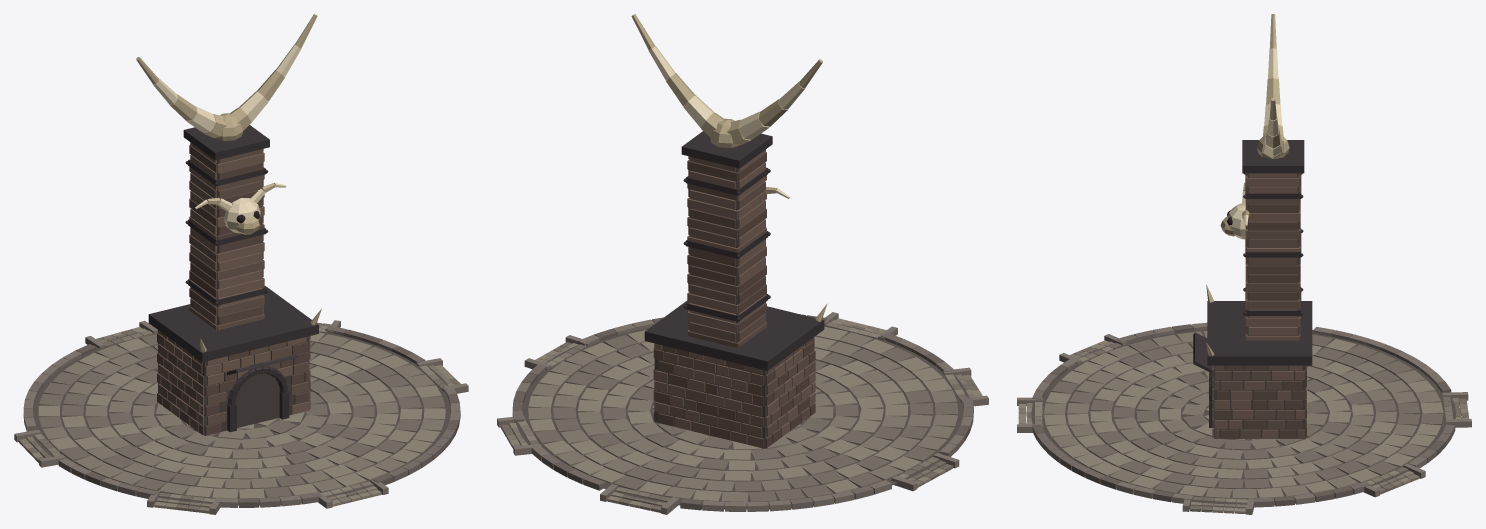
Rendered from forge.glb.
3 views of the same model, side by side, from view 1: azimuth 30°, elevation 25°; view 2: azimuth 150°, elevation 25°; view 3: azimuth 270°, elevation 25° (orthographic). The views are drawn at different scales.
Visible parts, largest first — view 1: forge; view 2: forge; view 3: forge.
Boxes of the visible parts, box(x1,y1,x2,y2) form: forge: box(14, 14, 468, 514); forge: box(497, 14, 988, 514); forge: box(1017, 14, 1471, 514).
Size of the model in its own units: 17.04 by 14.88 by 16.91.
